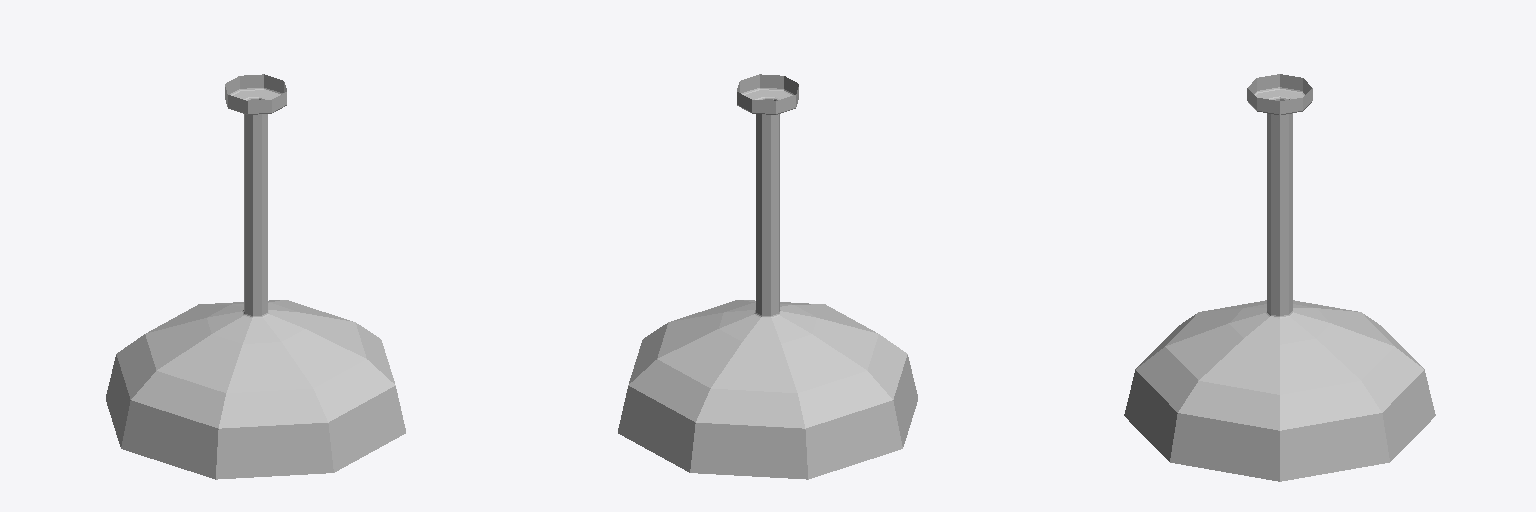
File: ceiling_lamp.obj
3 renders of one model, left to right at view 1: azimuth 30°, elevation 25°; view 2: azimuth 150°, elevation 25°; view 3: azimuth 270°, elevation 25°, orthographic.
Parts seen in each view (by area): view 1: group2_lamps_grp; view 2: group2_lamps_grp; view 3: group2_lamps_grp.
Part boxes in pixels (left/top/right/bottom): group2_lamps_grp: left=106, top=74, right=405, bottom=479; group2_lamps_grp: left=618, top=74, right=917, bottom=479; group2_lamps_grp: left=1124, top=74, right=1435, bottom=481.
Bounding box in the file's own units: 24.65 × 29.37 × 24.65.